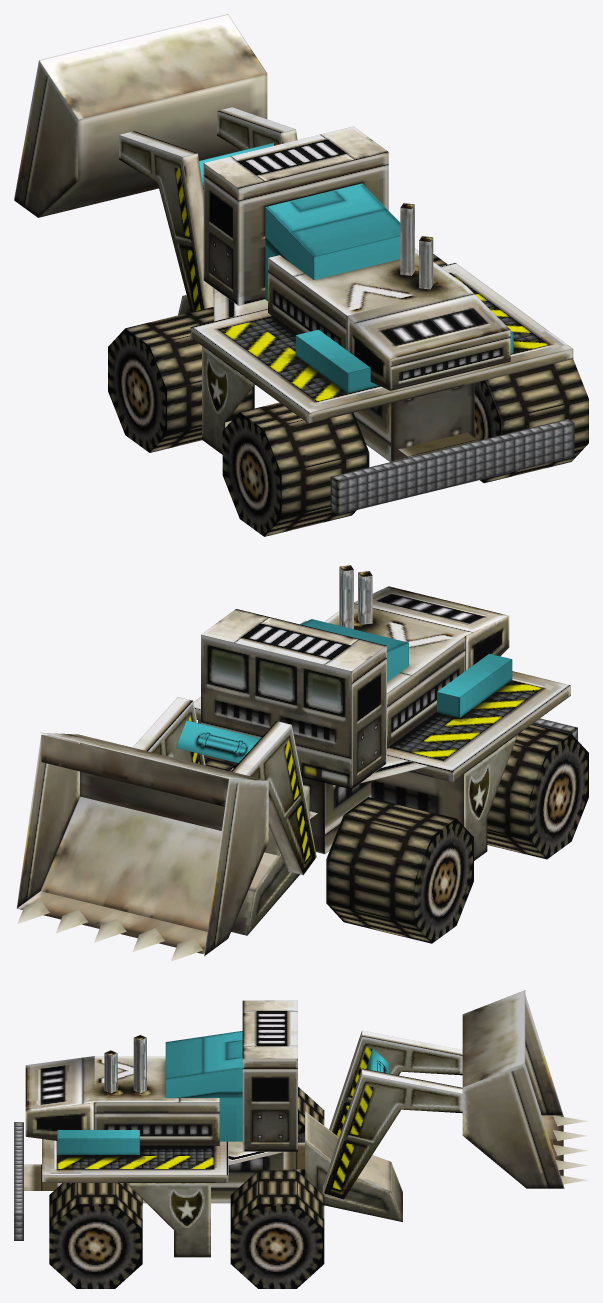
File: us_dozer.glb
3 views of the same model, one above another, from view 1: azimuth 30°, elevation 25°; view 2: azimuth 150°, elevation 25°; view 3: azimuth 270°, elevation 25° (orthographic). The views are drawn at different scales.
Visible parts, largest first — view 1: CHASSIS, BUCKET, TIRE03, TIRE01, HOUSECOLOR01, ARMS, TIRE04, HOUSECOLOR02; view 2: CHASSIS, BUCKET, TIRE01, TIRE03, ARMS, HOUSECOLOR02, HOUSECOLOR03, HOUSECOLOR01; view 3: CHASSIS, BUCKET, ARMS, TIRE02, TIRE04, HOUSECOLOR01, HOUSECOLOR02, TIRE01.
Boxes of the visible parts, <box> form: CHASSIS: <box>178,126,574,514</box>; BUCKET: <box>14,14,267,217</box>; TIRE03: <box>222,402,369,536</box>; TIRE01: <box>108,307,254,452</box>; HOUSECOLOR01: <box>265,183,400,301</box>; ARMS: <box>119,107,297,312</box>; TIRE04: <box>474,359,588,483</box>; HOUSECOLOR02: <box>295,329,513,393</box>; CHASSIS: <box>193,565,577,935</box>; BUCKET: <box>16,732,268,961</box>; TIRE01: <box>326,797,473,943</box>; TIRE03: <box>487,724,588,859</box>; ARMS: <box>133,697,316,875</box>; HOUSECOLOR02: <box>437,653,512,717</box>; HOUSECOLOR03: <box>176,720,260,763</box>; HOUSECOLOR01: <box>300,619,408,681</box>; CHASSIS: <box>14,1000,402,1257</box>; BUCKET: <box>462,990,588,1188</box>; ARMS: <box>322,1030,462,1199</box>; TIRE02: <box>230,1170,324,1288</box>; TIRE04: <box>49,1183,142,1288</box>; HOUSECOLOR01: <box>165,1030,242,1141</box>; HOUSECOLOR02: <box>57,1130,139,1154</box>; TIRE01: <box>283,1087,324,1177</box>.
Size of the model in its own units: 0.9049 by 0.7216 by 1.85.
Materials: 2 (2 with a texture image).
